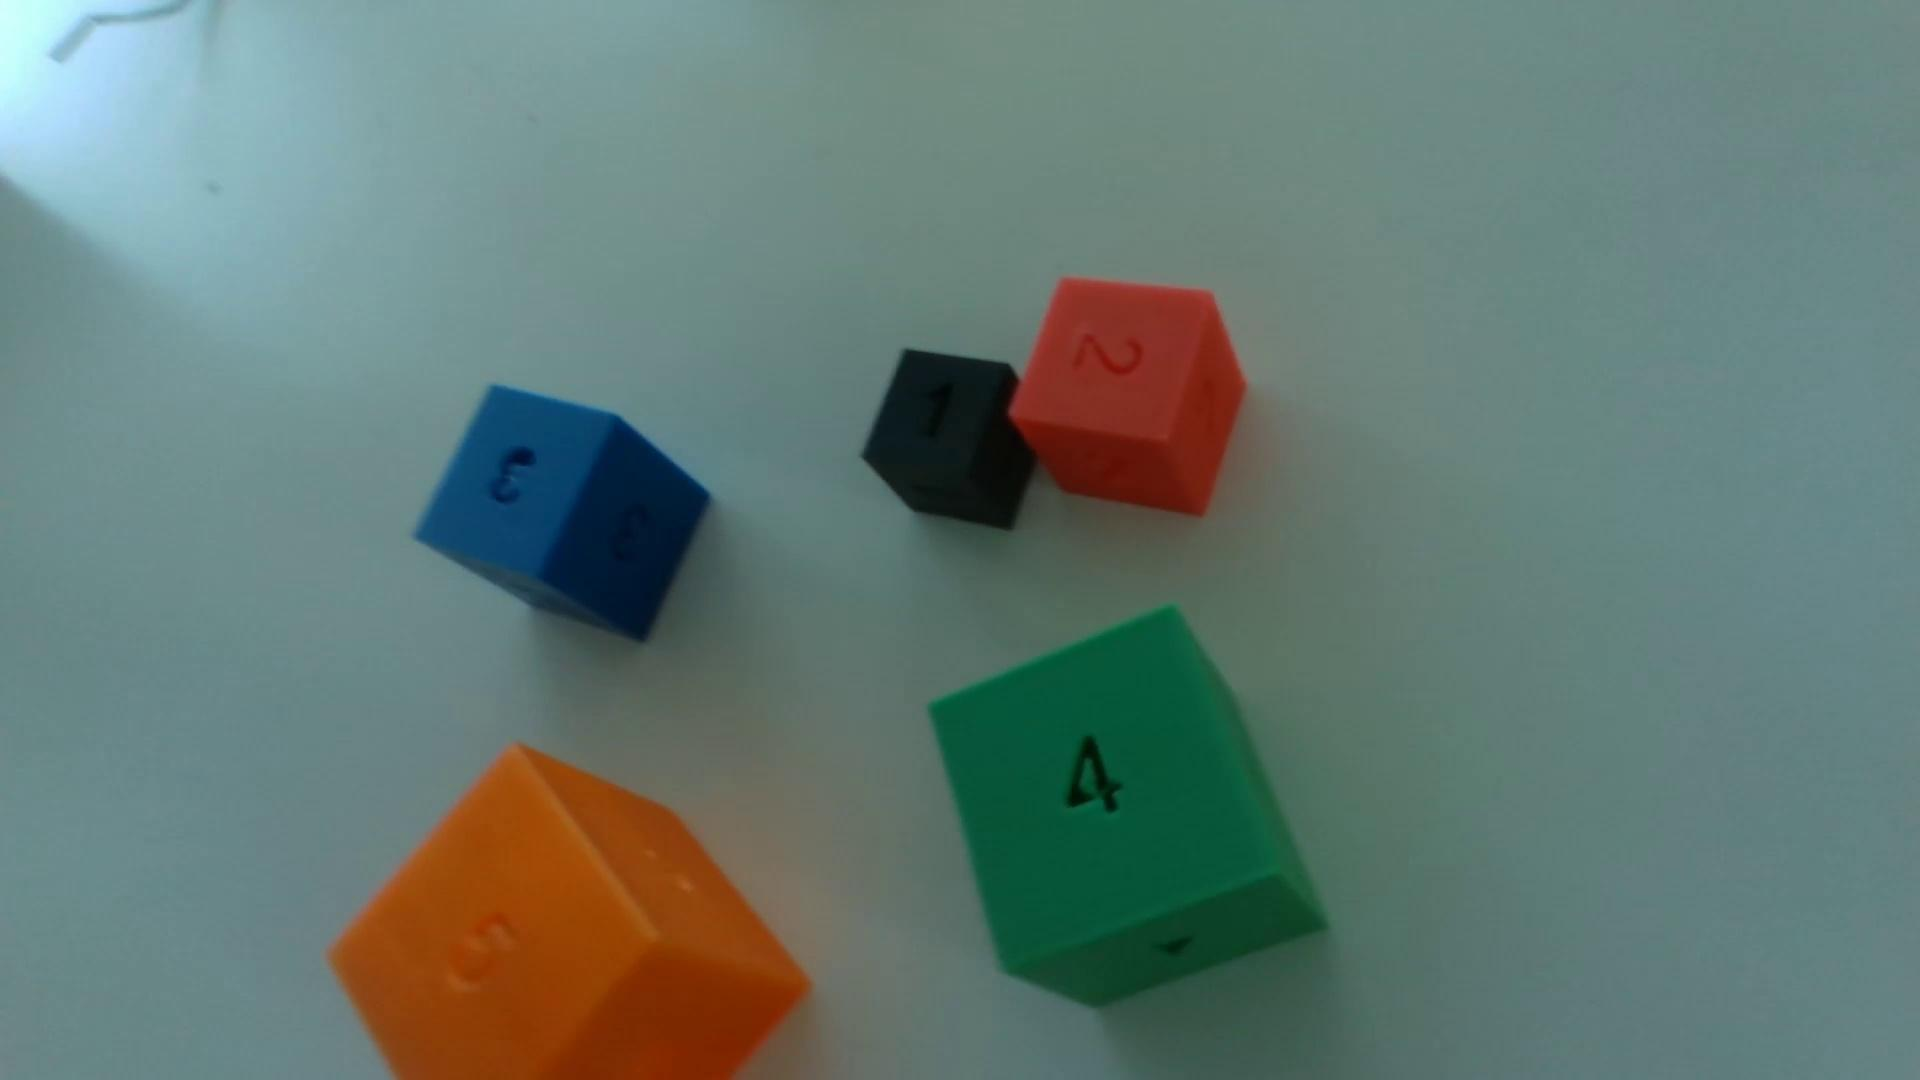black: (862, 349, 1035, 531)
blue: (415, 386, 709, 642)
green: (931, 608, 1323, 1007)
orange: (328, 746, 808, 1080)
red: (1011, 278, 1246, 516)
